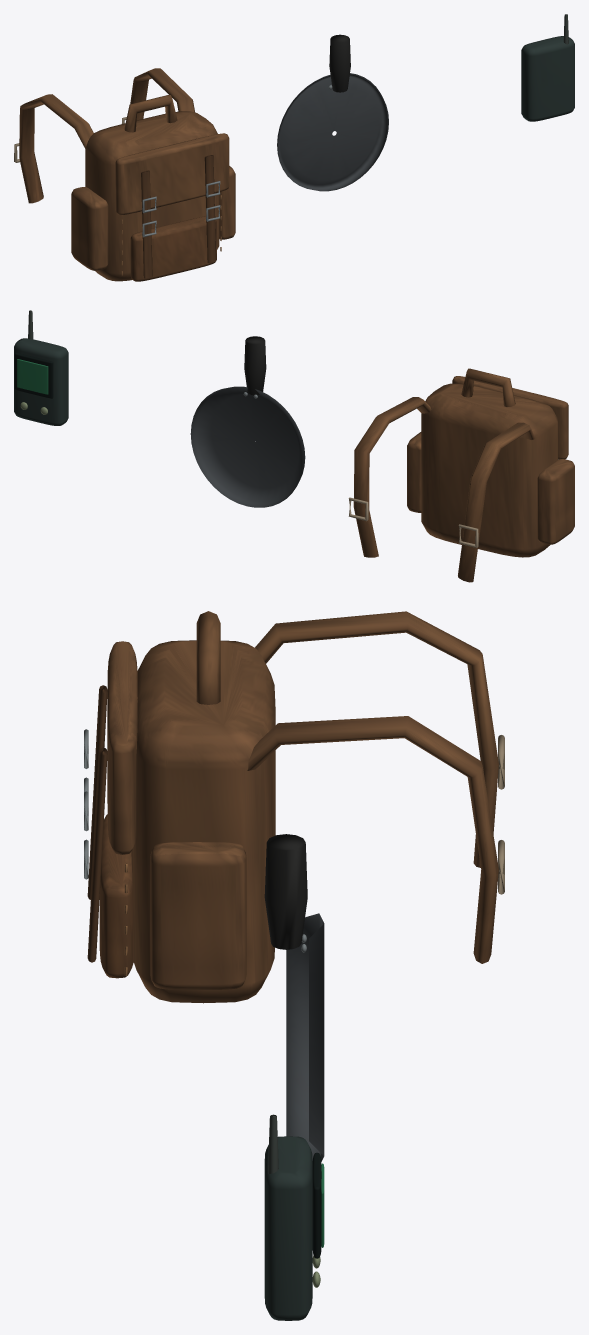
File: Accesorios-Pelotocino.fbx
3 renders of one model, top to bottom at view 1: azimuth 30°, elevation 25°; view 2: azimuth 150°, elevation 25°; view 3: azimuth 270°, elevation 25°, orthographic. The views are drawn at different scales.
Parts seen in each view (by area): view 1: Backpack, Pan, Tracker; view 2: Backpack, Pan, Tracker; view 3: Backpack, Pan, Tracker.
Part boxes in pixels (<box>): Backpack: <box>14,68,235,281</box>; Pan: <box>277,34,388,191</box>; Tracker: <box>521,14,574,121</box>; Backpack: <box>348,368,574,582</box>; Pan: <box>190,336,305,507</box>; Tracker: <box>14,310,68,425</box>; Backpack: <box>84,611,504,1003</box>; Pan: <box>264,834,324,1161</box>; Tracker: <box>264,1114,324,1320</box>.
Size of the model in its own units: 469 by 143 by 166.
Materials: 1 (1 with a texture image).
